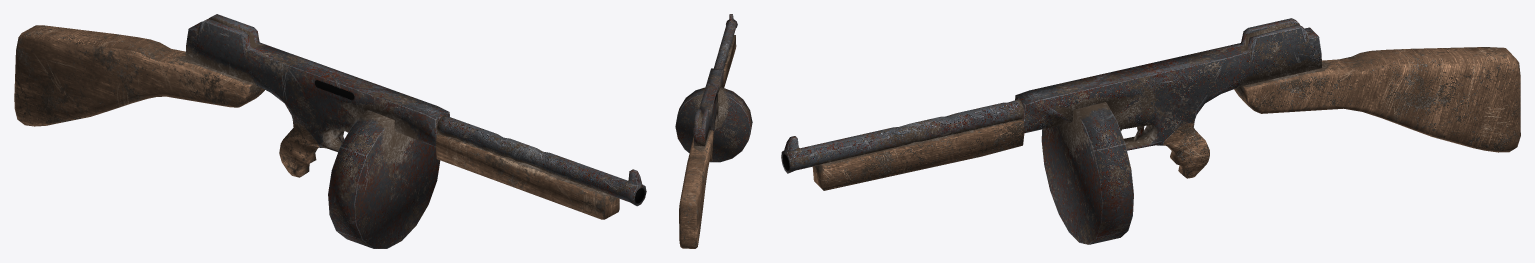
Rendered from Anim_disparar_ametralladora_objetos.0028.obj.
The picture shows the model from 3 angles, left to right: view 1: azimuth 30°, elevation 25°; view 2: azimuth 150°, elevation 25°; view 3: azimuth 270°, elevation 25°; orthographic projection. The views are drawn at different scales.
Parts seen in each view (by area): view 1: Ametralladora1; view 2: Ametralladora1; view 3: Ametralladora1.
Part boxes in pixels (x1,y1,x2,y2): Ametralladora1: (14, 14, 646, 248); Ametralladora1: (675, 14, 752, 248); Ametralladora1: (781, 18, 1520, 244).
Size of the model in its own units: 2.63 by 1.47 by 5.6.
